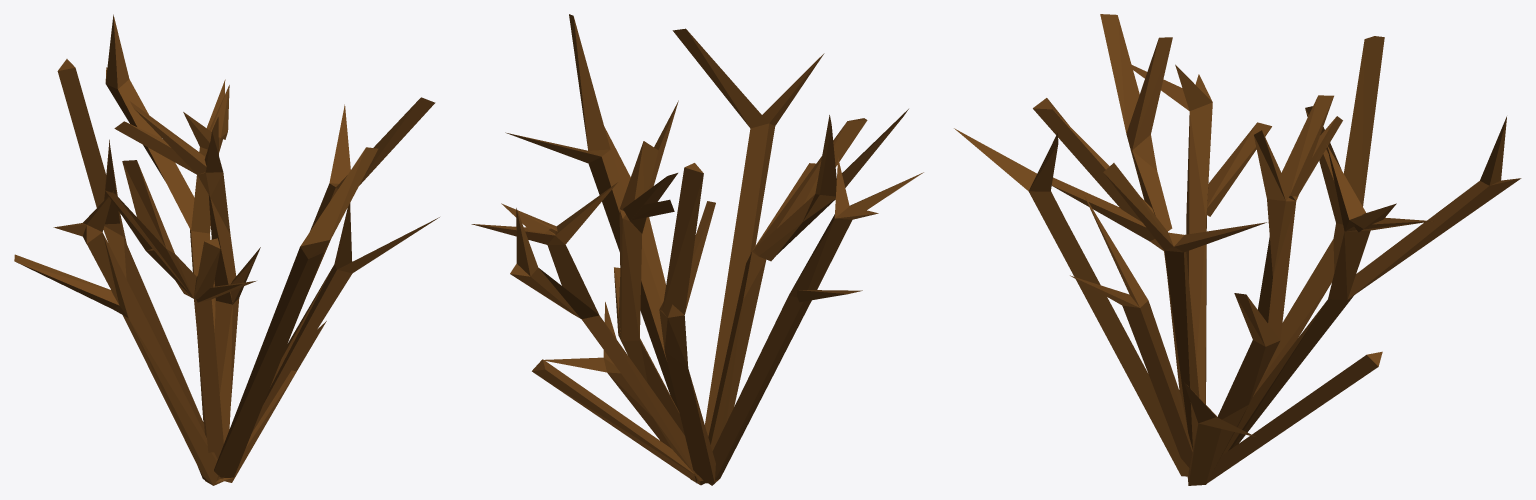
File: Bush_Winter_02.fbx
The picture shows the model from 3 angles, left to right: view 1: azimuth 30°, elevation 25°; view 2: azimuth 150°, elevation 25°; view 3: azimuth 270°, elevation 25°; orthographic projection. The views are drawn at different scales.
Visible parts, largest first — view 1: Cube; view 2: Cube; view 3: Cube.
Part boxes in pixels (bbox=[...]): Cube: bbox=[14, 14, 439, 485]; Cube: bbox=[471, 14, 923, 485]; Cube: bbox=[954, 14, 1521, 485].
Bounding box in the file's own units: 66.45 × 68.42 × 85.99.
